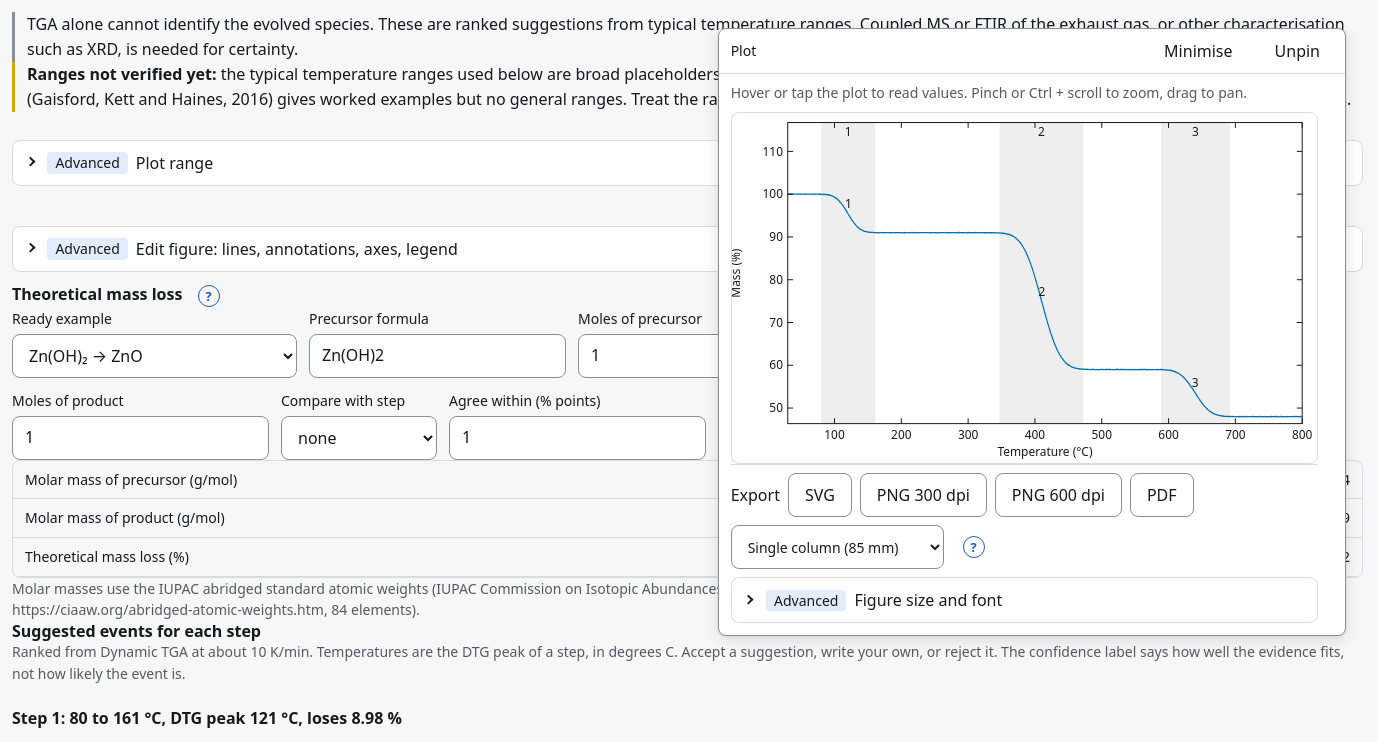
Test case: assign events step › compares the theoretical mass loss with a chosen step
Select "Step 2 (411 °C)" in the dropdown labelled "Compare with step" at (359, 438), box [281,416,437,460]
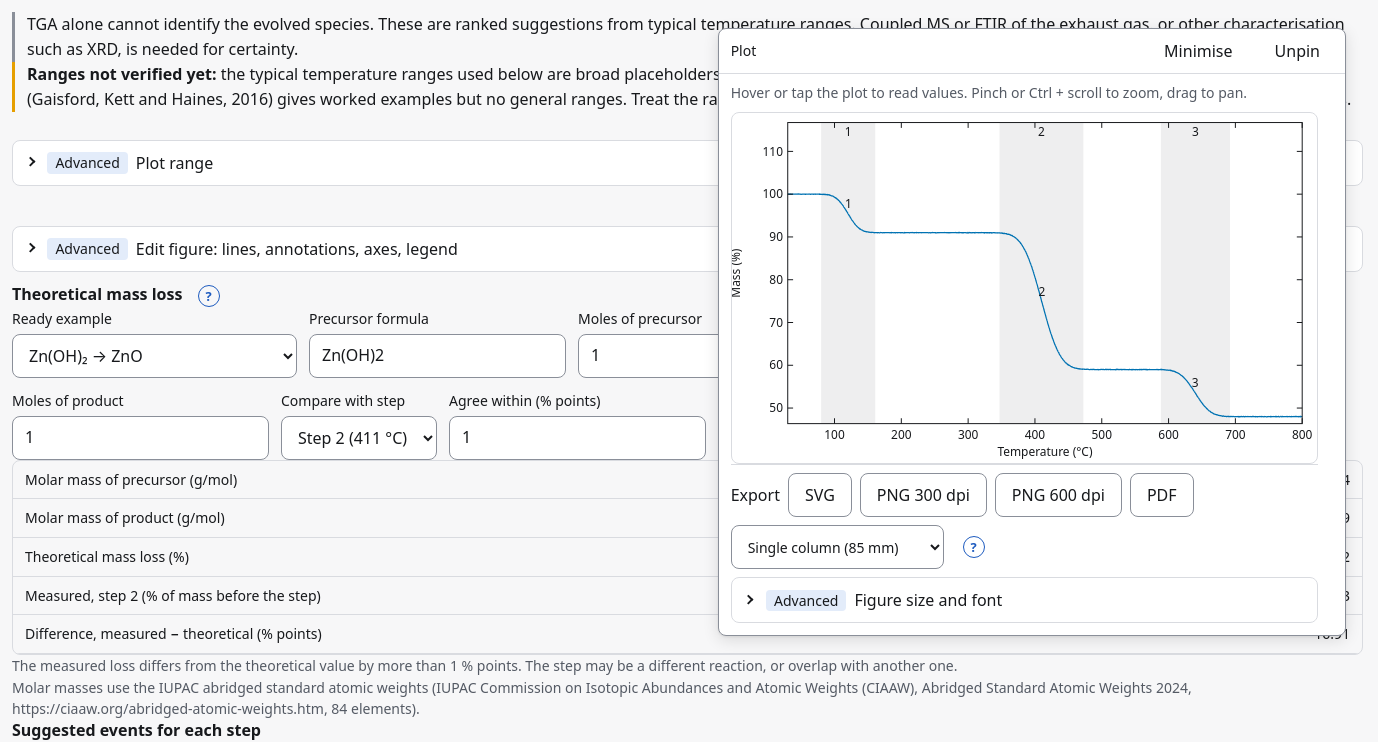
Expected: the column heading "Difference, measured − theoretical (% points)" is shown, [13,615,1127,654]
Expected: the text "differs from the theoretical value" is shown, [12,656,958,675]
